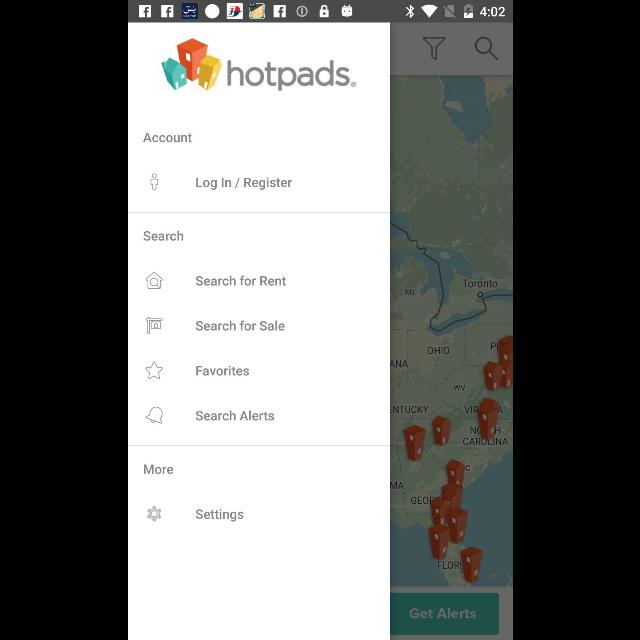icon: (144, 272, 162, 290), (144, 361, 162, 379), (145, 406, 163, 424), (147, 506, 161, 522), (150, 173, 158, 190)
image: (160, 38, 356, 92), (146, 318, 162, 334)
panel: (128, 22, 388, 640)
text: (195, 178, 292, 190), (194, 275, 286, 287), (196, 321, 284, 332), (194, 411, 274, 422), (195, 508, 243, 522), (196, 366, 248, 376), (142, 133, 192, 143), (142, 230, 182, 242), (143, 464, 173, 474)
uppertaskbar: (128, 1, 512, 23)
